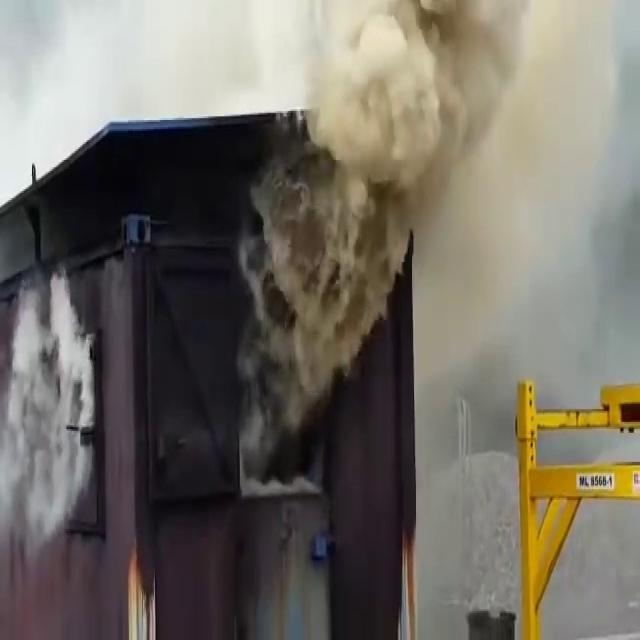Smoke: (308, 6, 578, 497)
